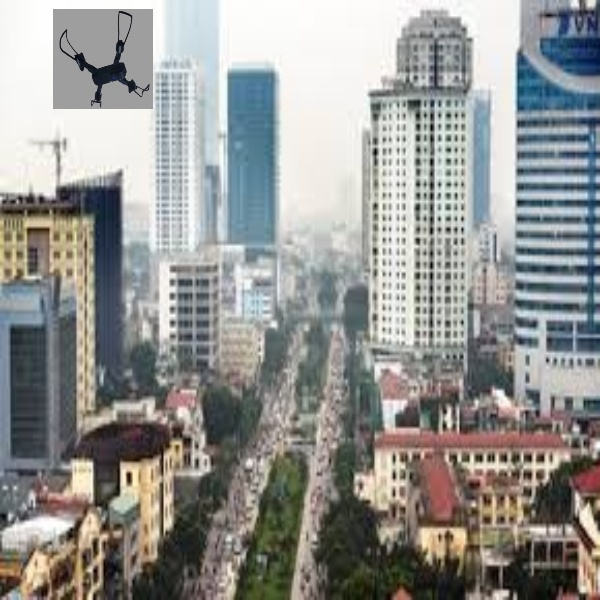drone: (51, 10, 156, 112)
